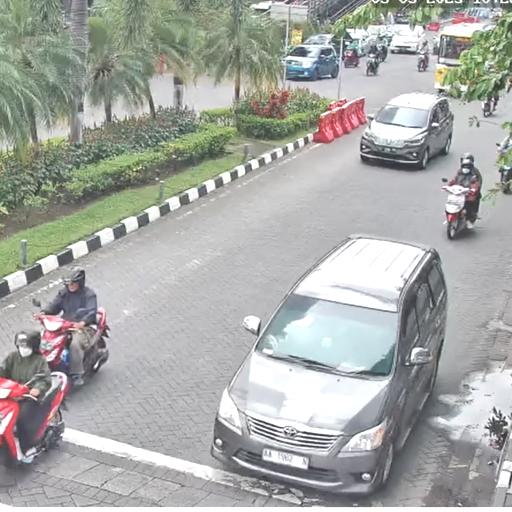mobil: (210, 235, 451, 489), (356, 89, 458, 171)
motor: (2, 353, 70, 481), (27, 299, 111, 393), (435, 172, 488, 245)
